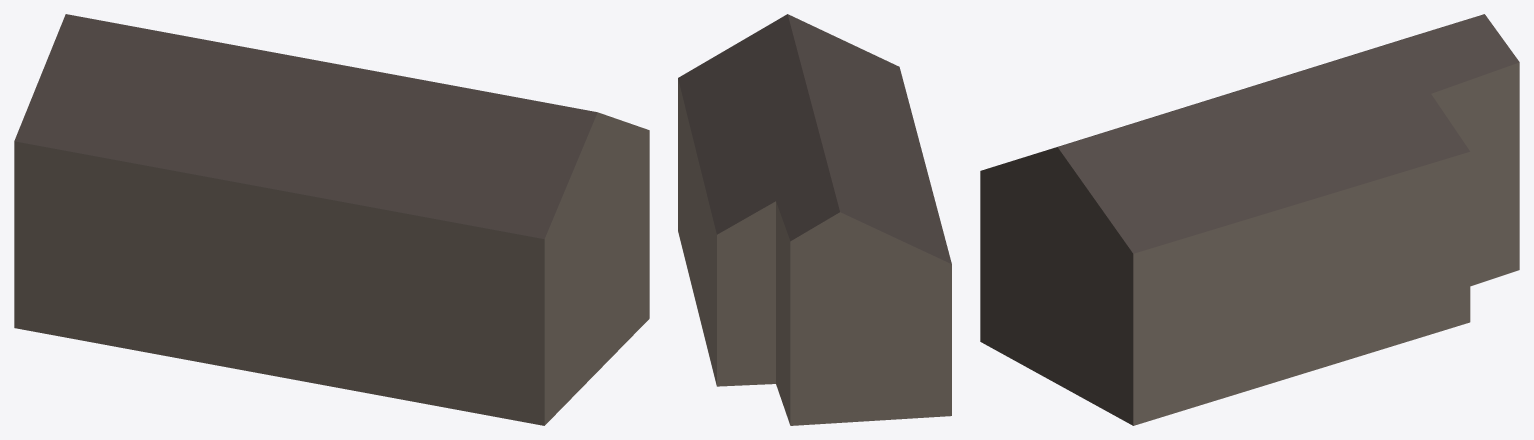
3 renders of one model, left to right at view 1: azimuth 30°, elevation 25°; view 2: azimuth 150°, elevation 25°; view 3: azimuth 270°, elevation 25°, orthographic. The views are drawn at different scales.
Parts seen in each view (by area): view 1: HP-w1515076930; view 2: HP-w1515076930; view 3: HP-w1515076930.
Boxes of the visible parts, bbox=[...] form: HP-w1515076930: bbox=[14, 14, 649, 425]; HP-w1515076930: bbox=[678, 14, 951, 425]; HP-w1515076930: bbox=[980, 14, 1519, 425].
Bounding box in the file's own units: 24.53 × 12.5 × 25.78.
